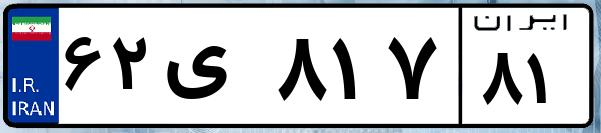1: (330, 28, 385, 110), (525, 38, 570, 115)
2: (110, 28, 158, 98)
6: (57, 26, 110, 100)
7: (385, 28, 445, 110)
8: (270, 28, 330, 110), (475, 38, 525, 113)
ی: (158, 20, 270, 120)
